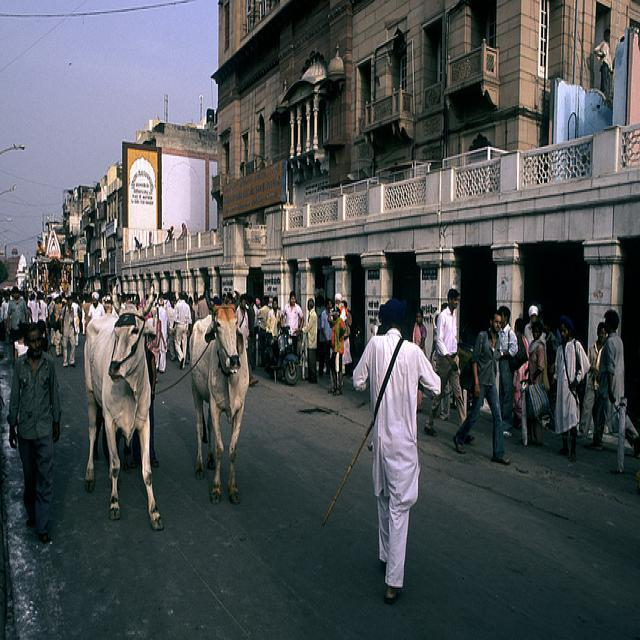cow: (83, 288, 161, 531), (187, 283, 249, 499)
